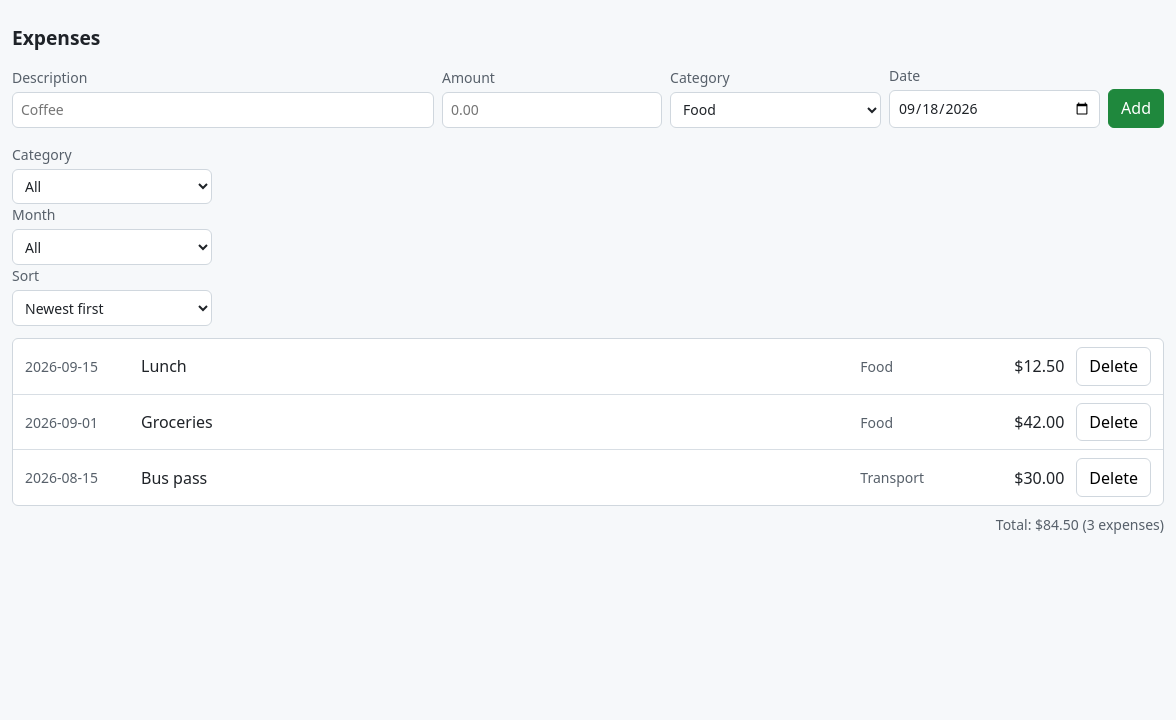
Test: ExpenseList › shows empty state when no expenses match filters
# Filter by Transport AND September (no matches)
Select "Transport" in the 2nd dropdown labelled "Category" at (112, 186), box x1=12 y1=169 x2=212 y2=204
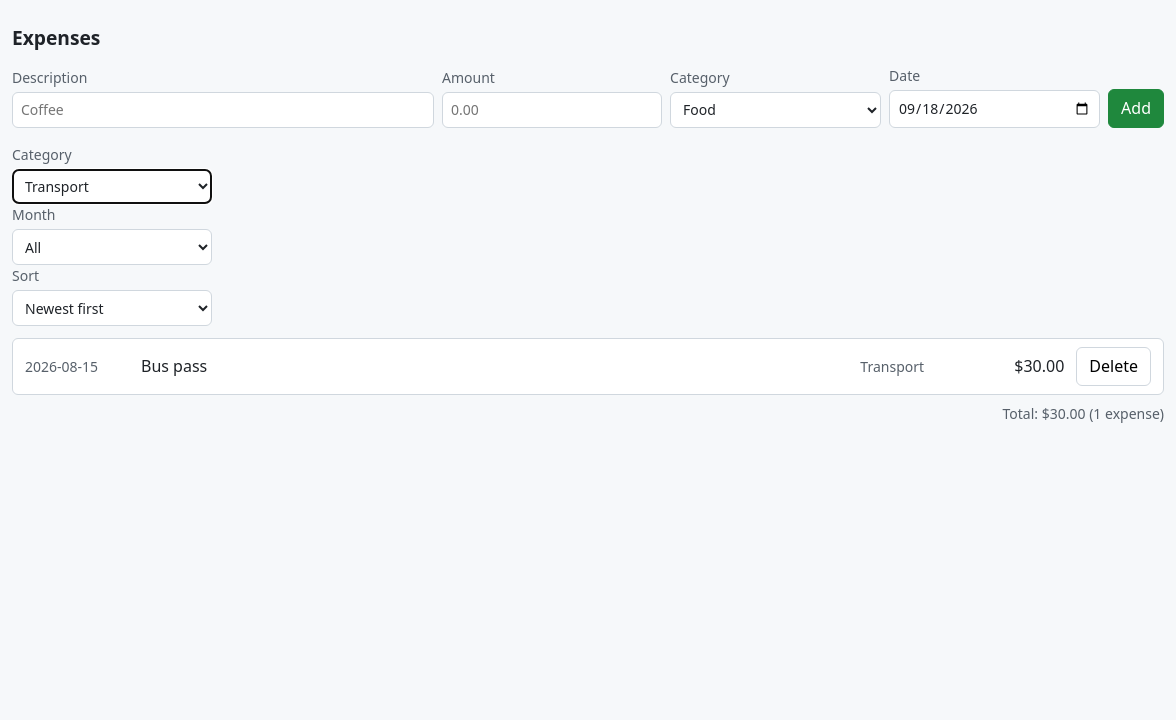
Select "2026-09" in the dropdown labelled "Month" at (112, 247), box x1=12 y1=229 x2=212 y2=265
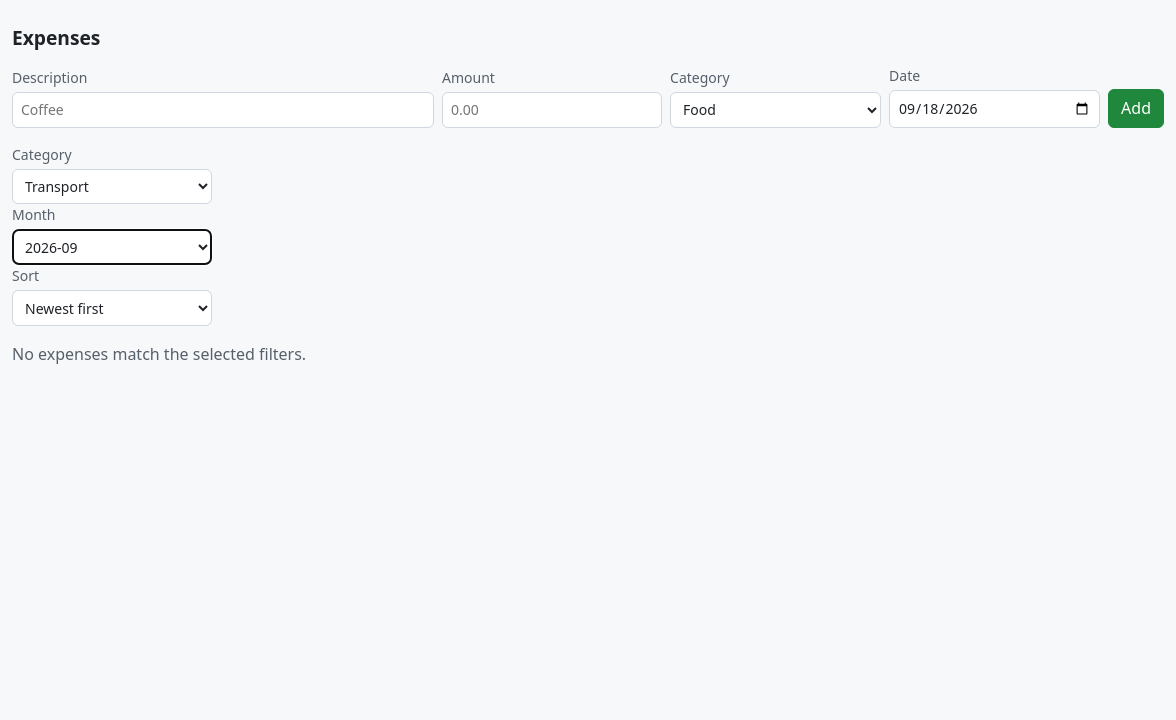
Expected: the list item "2026-08-15 Bus pass Transport $30.00 Delete" is gone
Expected: the text "No expenses match the selected filters." is shown, x1=12 y1=343 x2=306 y2=365
